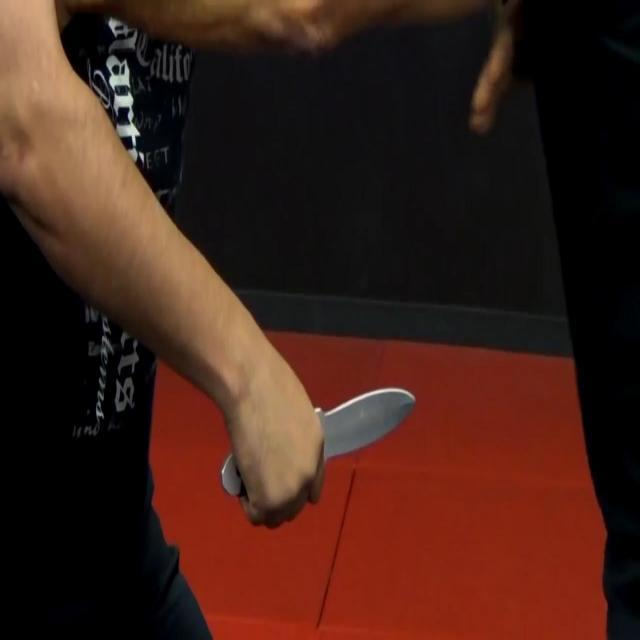knife: (215, 372, 422, 531)
